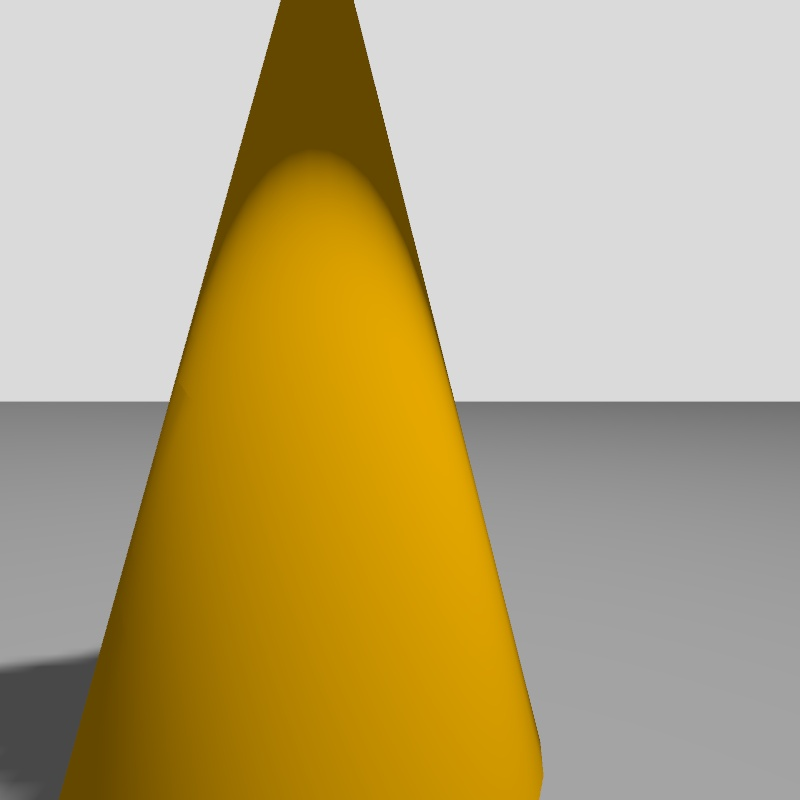Yellow_cone: (62, 0, 542, 799)
